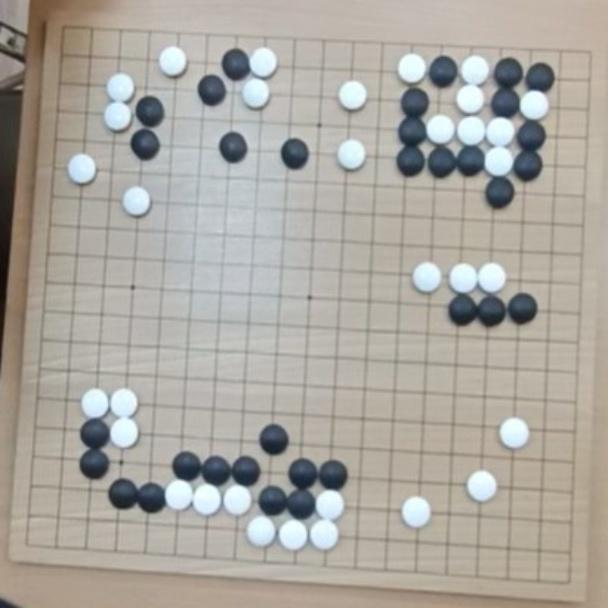corners: (49, 5, 98, 66), (544, 552, 593, 606), (558, 30, 602, 85), (10, 520, 51, 566)
